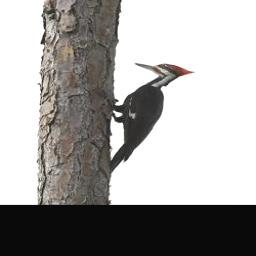Woodpecker: (111, 62, 197, 175)
